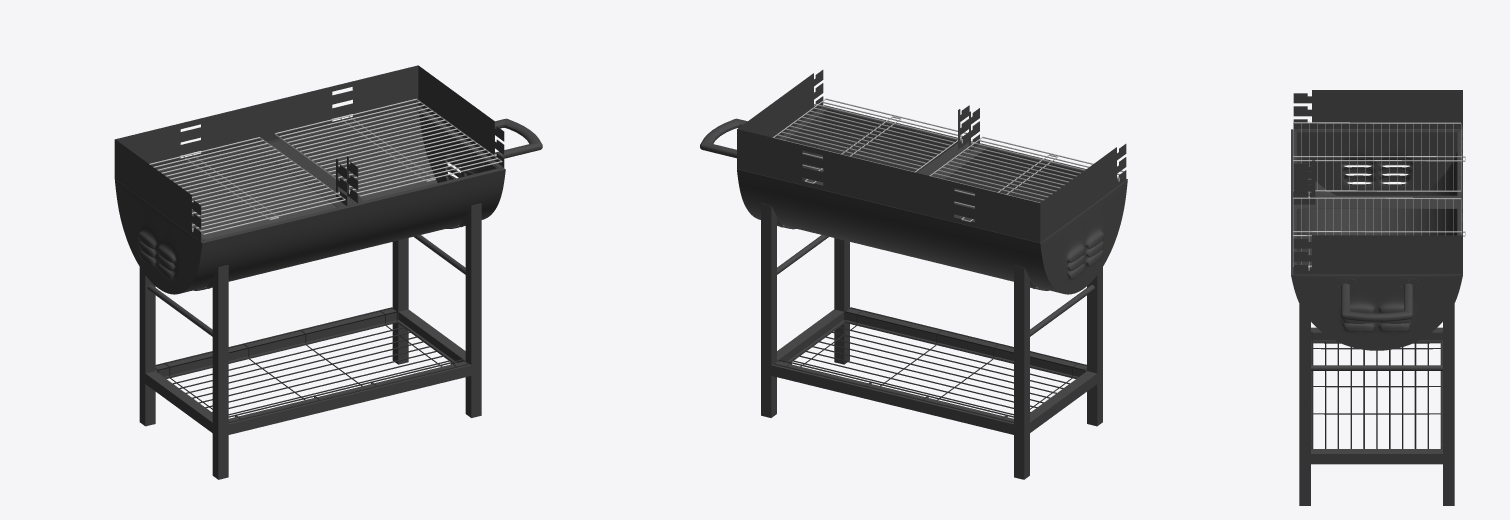
File: parrilla _.glb
3 views of the same model, side by side, from view 1: azimuth 30°, elevation 25°; view 2: azimuth 150°, elevation 25°; view 3: azimuth 270°, elevation 25° (orthographic).
Visible parts, largest first — view 1: BBQ, BBQ.004, BBQ.002; view 2: BBQ, BBQ.004, BBQ.002; view 3: BBQ, BBQ.004, BBQ.002.
Boxes of the visible parts, x1,y1,x2,y2 form: BBQ: (114, 65, 542, 479); BBQ.004: (114, 108, 505, 294); BBQ.002: (155, 307, 469, 422); BBQ: (700, 70, 1126, 479); BBQ.004: (737, 105, 1127, 294); BBQ.002: (773, 307, 1086, 422); BBQ: (1293, 90, 1465, 505); BBQ.004: (1291, 129, 1462, 350); BBQ.002: (1311, 332, 1442, 448).
Size of the model in its own units: 2.02 by 1.42 by 0.8254.
Materials: 8 (3 with a texture image).
